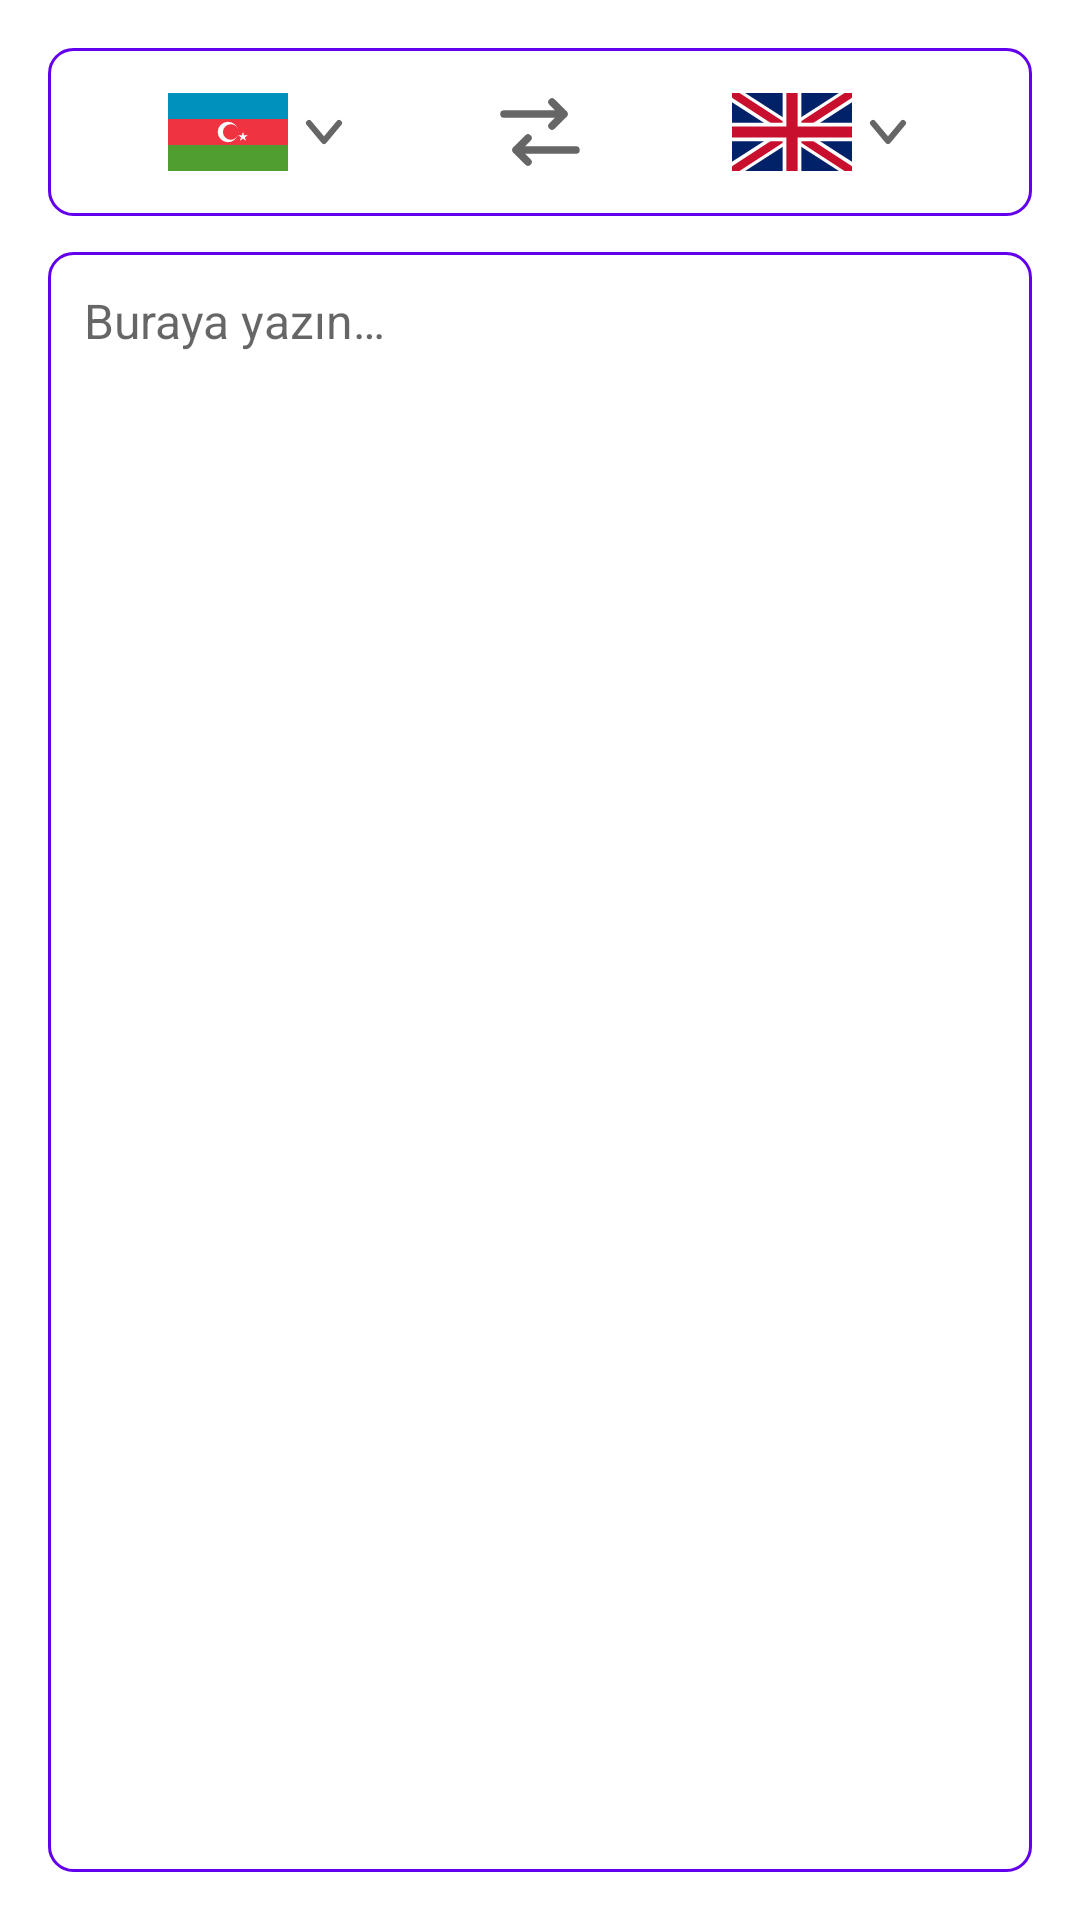

Icon bounding boxes for this 1080 x 1920 phone screenshot, format (x1, y1, x2, y2):
dropdown arrow: (306, 120, 342, 144), (870, 120, 906, 144)
flag az: (168, 93, 288, 171)
flag en: (732, 93, 852, 171)
swap: (500, 98, 580, 166)
